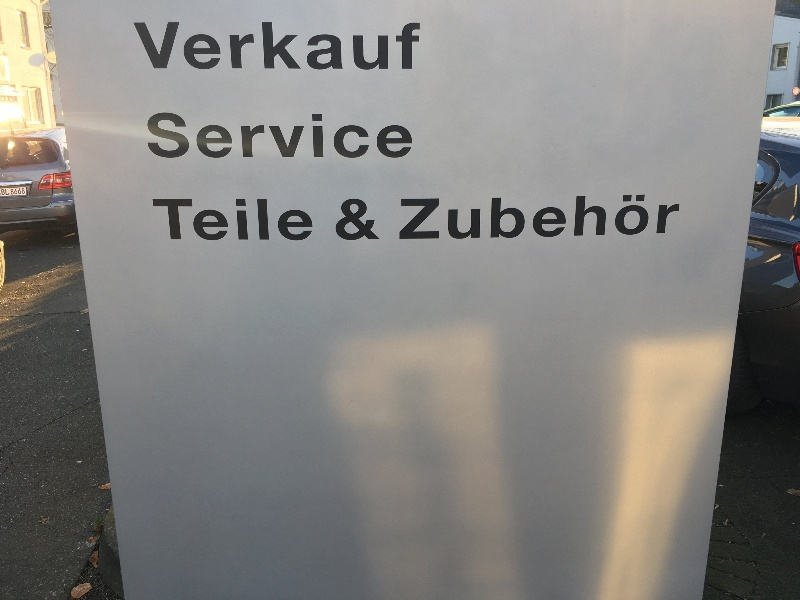text: (161, 110, 176, 159), (177, 110, 192, 159), (193, 110, 208, 159), (209, 110, 224, 159), (225, 110, 240, 159), (241, 110, 256, 159), (257, 110, 272, 159), (273, 110, 288, 159), (289, 110, 304, 159), (305, 110, 320, 159), (321, 110, 336, 159), (337, 110, 352, 159), (353, 110, 368, 159), (369, 110, 384, 159), (385, 110, 400, 159), (145, 22, 160, 70), (161, 22, 176, 70), (177, 22, 192, 70), (193, 22, 208, 70), (209, 22, 224, 70), (225, 22, 240, 70), (241, 22, 256, 70), (257, 22, 272, 70), (273, 22, 288, 70), (289, 22, 304, 70), (305, 22, 320, 70), (321, 22, 336, 70), (337, 22, 352, 70), (353, 22, 368, 70), (369, 22, 384, 70), (385, 22, 400, 70), (401, 22, 416, 70), (401, 196, 416, 240), (417, 196, 432, 240), (433, 196, 448, 240), (449, 196, 464, 240), (465, 196, 480, 240), (481, 196, 496, 240), (497, 196, 512, 240), (513, 196, 528, 240), (529, 196, 544, 240), (545, 196, 560, 240), (561, 196, 576, 240), (577, 196, 592, 240), (593, 196, 608, 240), (609, 196, 624, 240), (625, 196, 640, 240), (641, 196, 656, 240), (657, 196, 672, 240), (147, 110, 160, 159), (161, 199, 176, 241), (177, 199, 192, 241), (193, 199, 208, 241), (209, 199, 224, 241), (225, 199, 240, 241), (241, 199, 256, 241), (257, 199, 272, 241), (273, 199, 288, 241), (289, 199, 304, 241), (337, 199, 352, 241), (353, 199, 368, 241), (401, 110, 413, 159), (132, 22, 144, 70), (148, 199, 160, 241), (369, 199, 381, 241), (305, 199, 316, 241), (673, 196, 681, 240), (417, 22, 421, 70), (1, 189, 16, 196), (17, 189, 25, 196), (335, 199, 336, 241), (11, 189, 16, 196)
